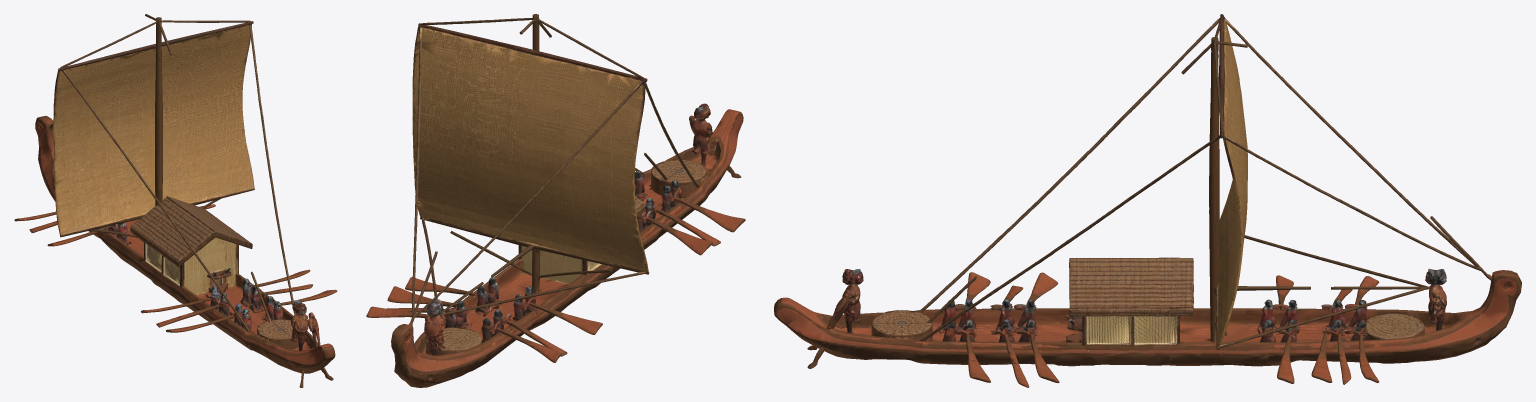
File: Chontal_Maya_Longboat.min.glb
3 renders of one model, left to right at view 1: azimuth 30°, elevation 25°; view 2: azimuth 150°, elevation 25°; view 3: azimuth 270°, elevation 25°, orthographic. The views are drawn at different scales.
Visible parts, largest first — view 1: tripo_node_bab32f3a-18c6-4bfb-97d6-338f090f2fa0; view 2: tripo_node_bab32f3a-18c6-4bfb-97d6-338f090f2fa0; view 3: tripo_node_bab32f3a-18c6-4bfb-97d6-338f090f2fa0.
Part boxes in pixels (left/top/right/bottom): tripo_node_bab32f3a-18c6-4bfb-97d6-338f090f2fa0: left=14, top=14, right=337, bottom=387; tripo_node_bab32f3a-18c6-4bfb-97d6-338f090f2fa0: left=366, top=14, right=745, bottom=387; tripo_node_bab32f3a-18c6-4bfb-97d6-338f090f2fa0: left=774, top=14, right=1521, bottom=387.
Size of the model in its own units: 0.3773 by 0.4629 by 0.979.
Materials: 1 (1 with a texture image).
